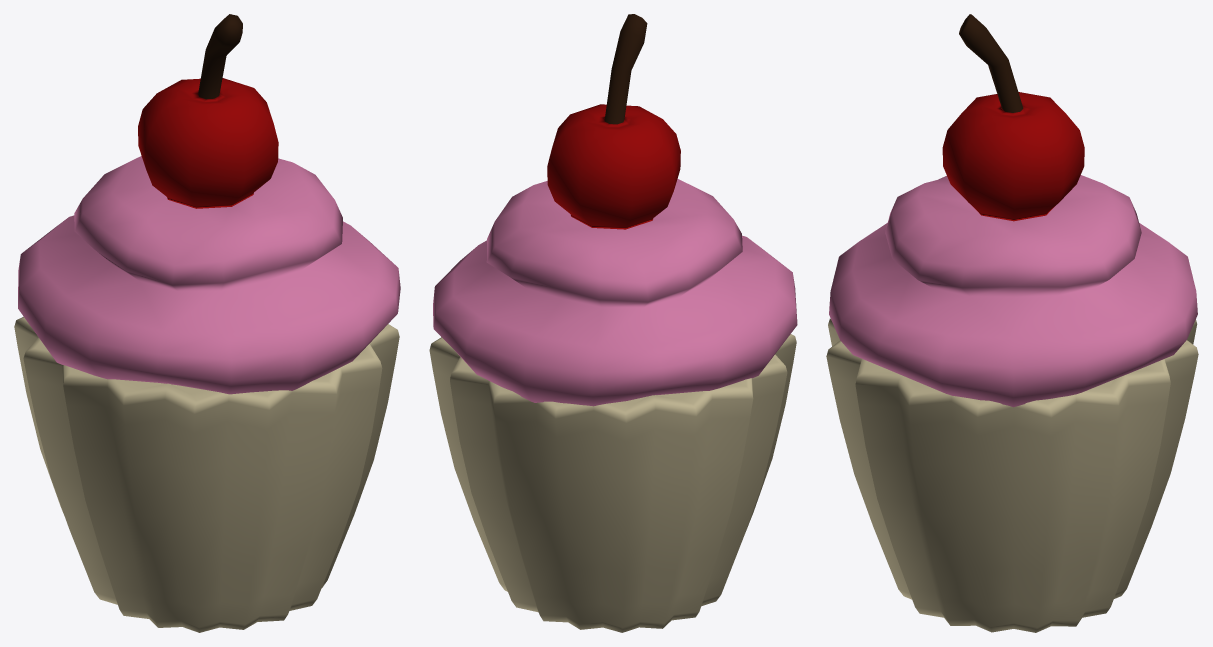
File: CupCake.fbx
The picture shows the model from 3 angles, left to right: view 1: azimuth 30°, elevation 25°; view 2: azimuth 150°, elevation 25°; view 3: azimuth 270°, elevation 25°; orthographic projection. The views are drawn at different scales.
Parts seen in each view (by area): view 1: Bot, Top; view 2: Bot, Top; view 3: Bot, Top.
Boxes of the visible parts, <box> form: Bot: <box>18,14,400,394</box>; Top: <box>14,316,399,632</box>; Bot: <box>433,14,797,406</box>; Top: <box>429,334,796,632</box>; Bot: <box>829,14,1197,407</box>; Top: <box>826,318,1198,632</box>.
Bounding box in the file's own units: 1.48 × 2.52 × 1.48.
